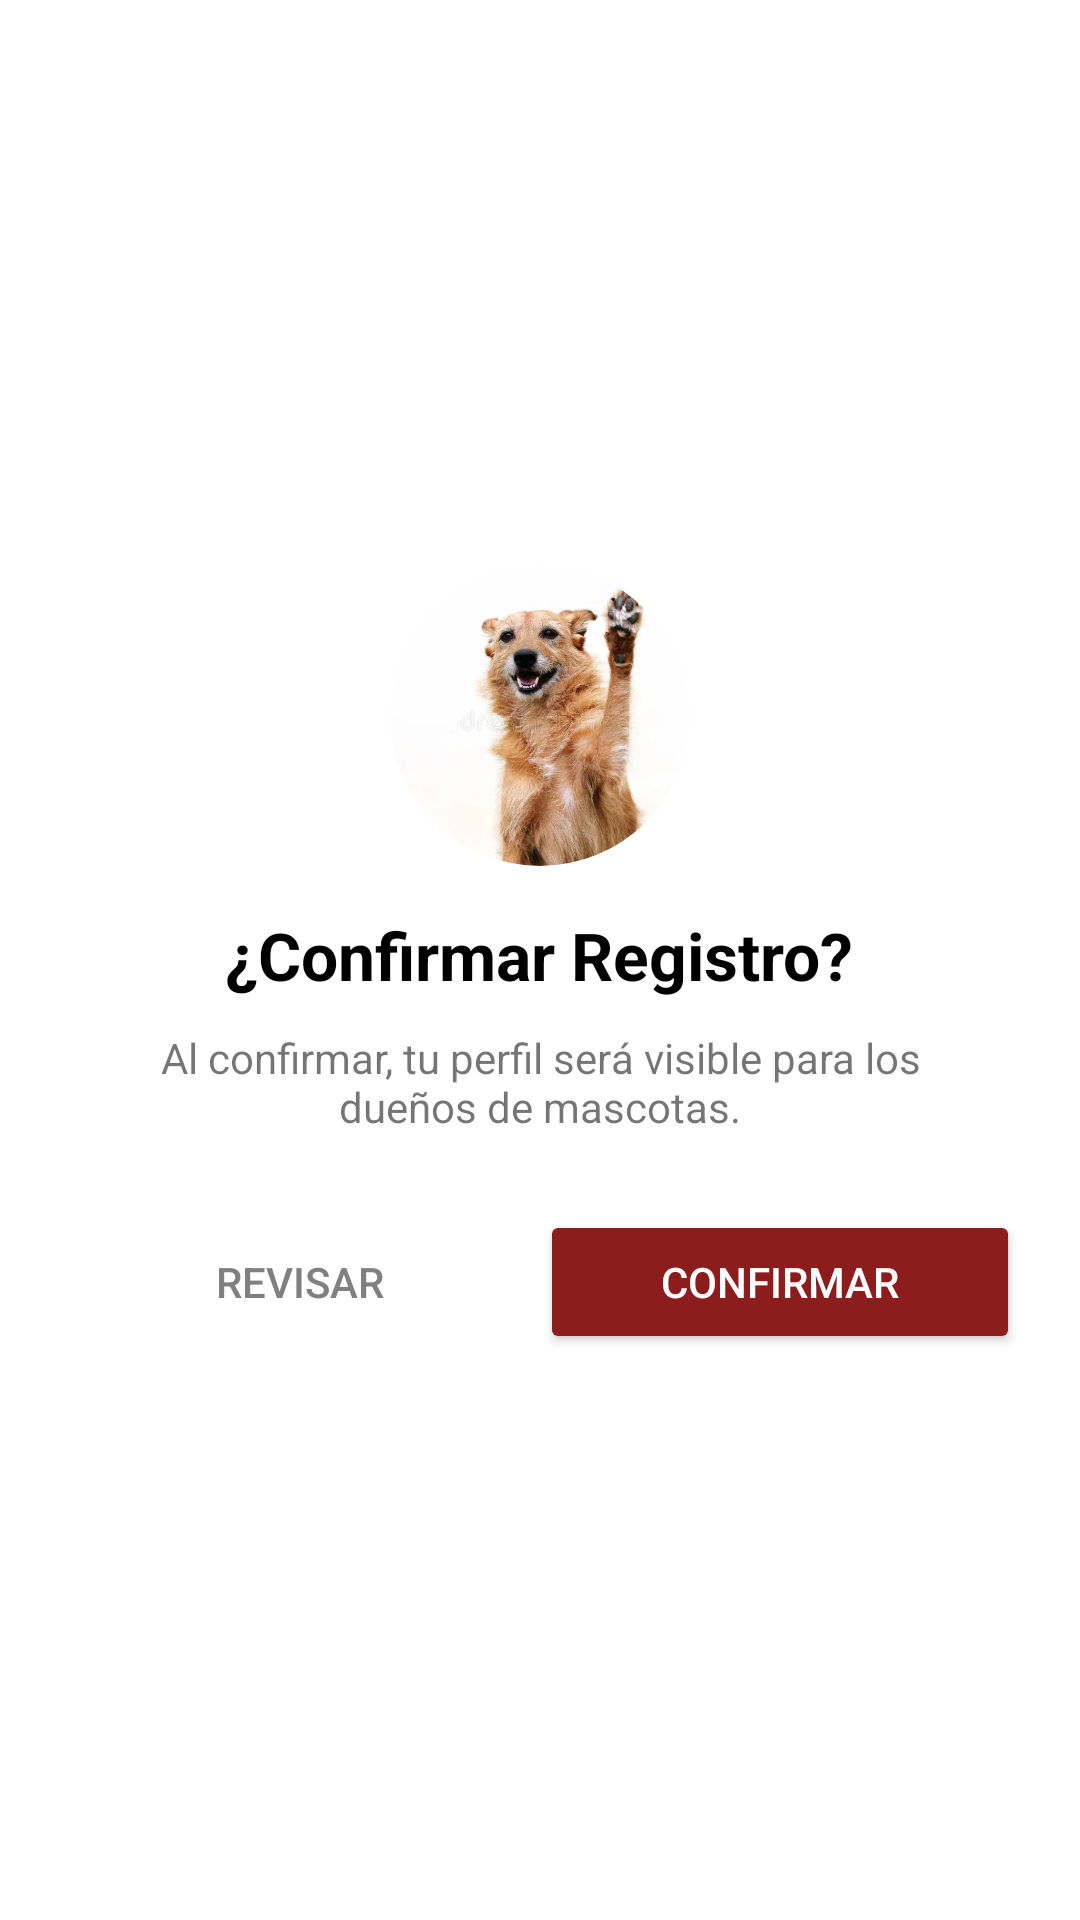

Named icons in this screenshot (1080px×1920px) and their bounding boxes, (x1=x1, y1=y1, x2=x2, y2=y2):
perrito confirmacion: (x1=460, y1=589, x2=647, y2=866)
